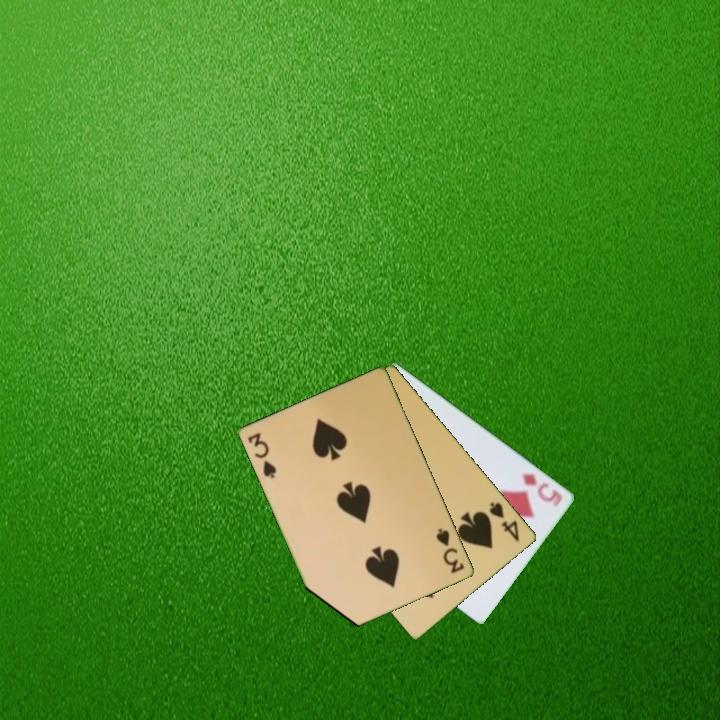3s: (245, 429, 280, 482), (433, 525, 468, 576)
4s: (486, 499, 523, 545)
5d: (519, 469, 566, 509)
